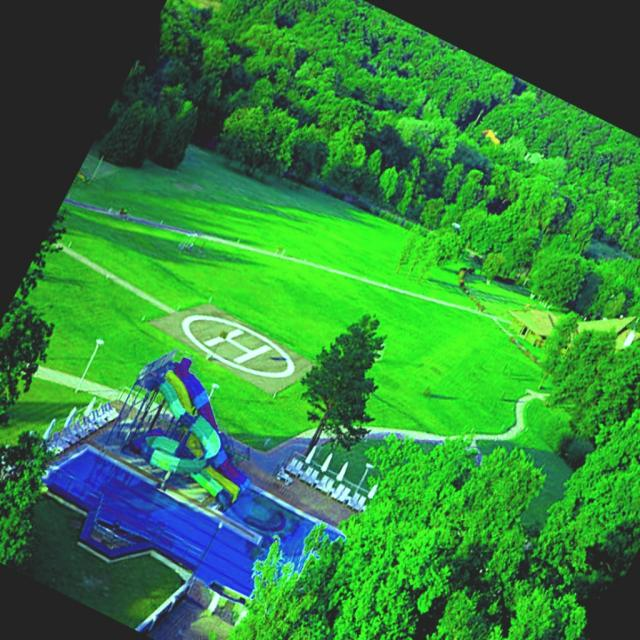helipad: (178, 307, 298, 382)
